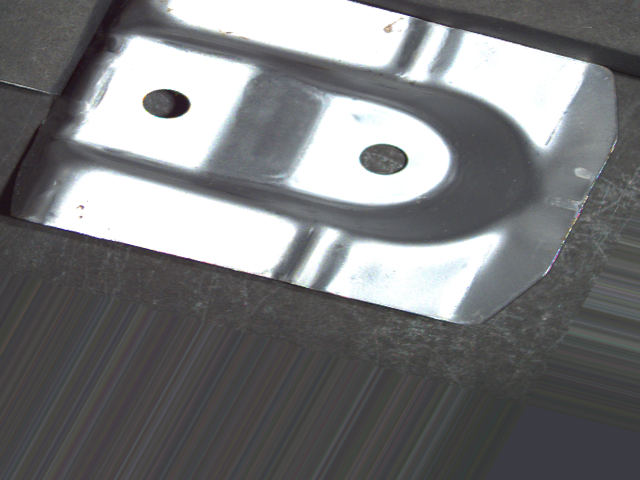defect: (352, 137, 412, 182)
